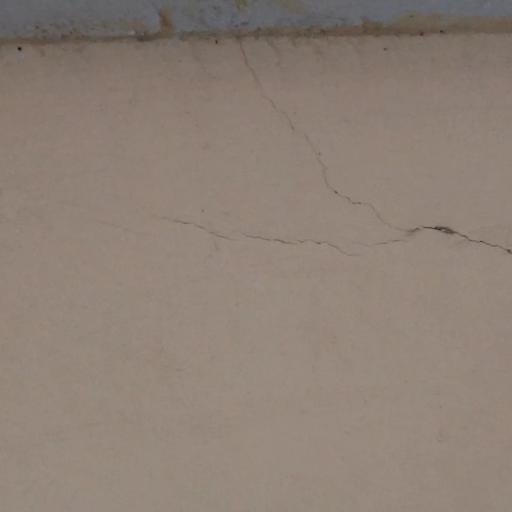minor_crack: (100, 0, 512, 300)
